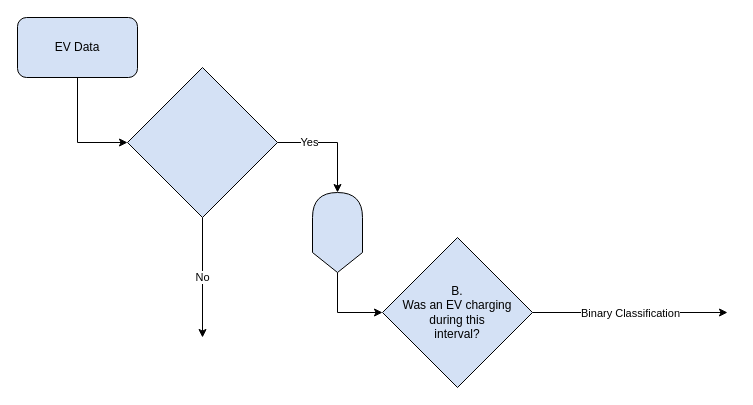
This 753x405 diagram has some shape labels left out. The box of each missing label's shape, as (x1, y1, x2, y2) in pixels:
A. Does this house have an EV?: (126, 66, 278, 218)
Transform Data: (312, 192, 362, 272)
